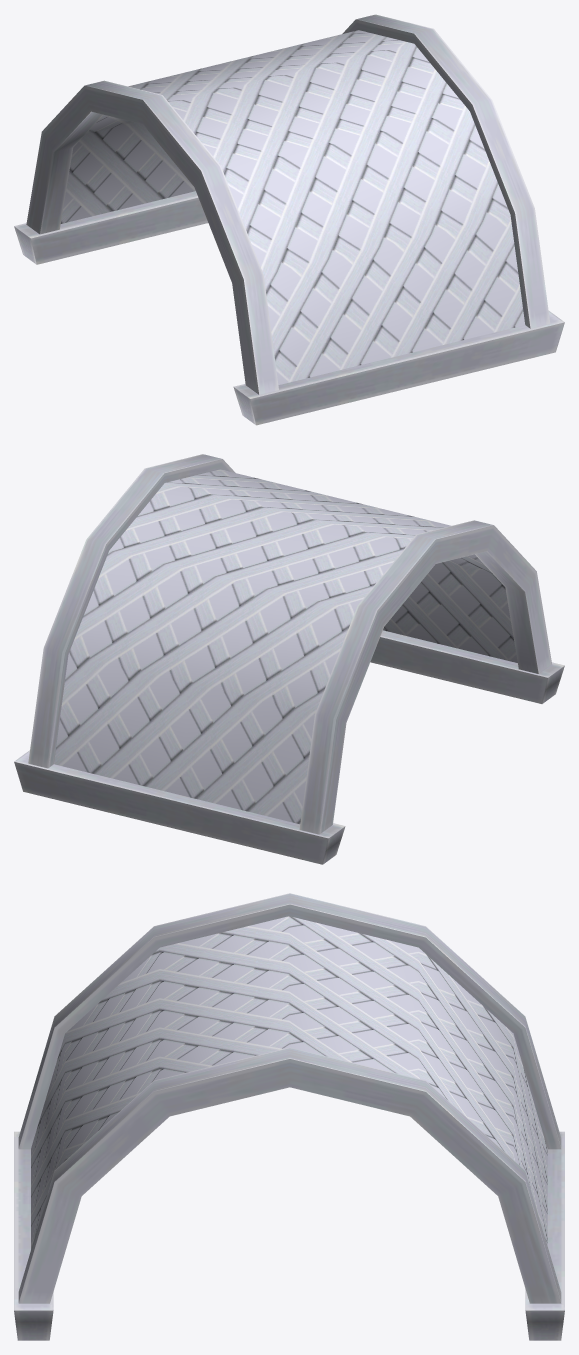
The model's file is INST_HTOWN_LATTICEARCH.fbx.
3 renders of one model, top to bottom at view 1: azimuth 30°, elevation 25°; view 2: azimuth 150°, elevation 25°; view 3: azimuth 270°, elevation 25°, orthographic. The views are drawn at different scales.
Visible parts, largest first — view 1: INST_HTOWN_LATTICEARCH; view 2: INST_HTOWN_LATTICEARCH; view 3: INST_HTOWN_LATTICEARCH.
Boxes of the visible parts, bbox=[...] form: INST_HTOWN_LATTICEARCH: bbox=[14, 14, 564, 425]; INST_HTOWN_LATTICEARCH: bbox=[14, 454, 564, 864]; INST_HTOWN_LATTICEARCH: bbox=[14, 893, 564, 1340].
Size of the model in its own units: 9524 by 6923 by 12392.
Materials: 2 (2 with a texture image).
